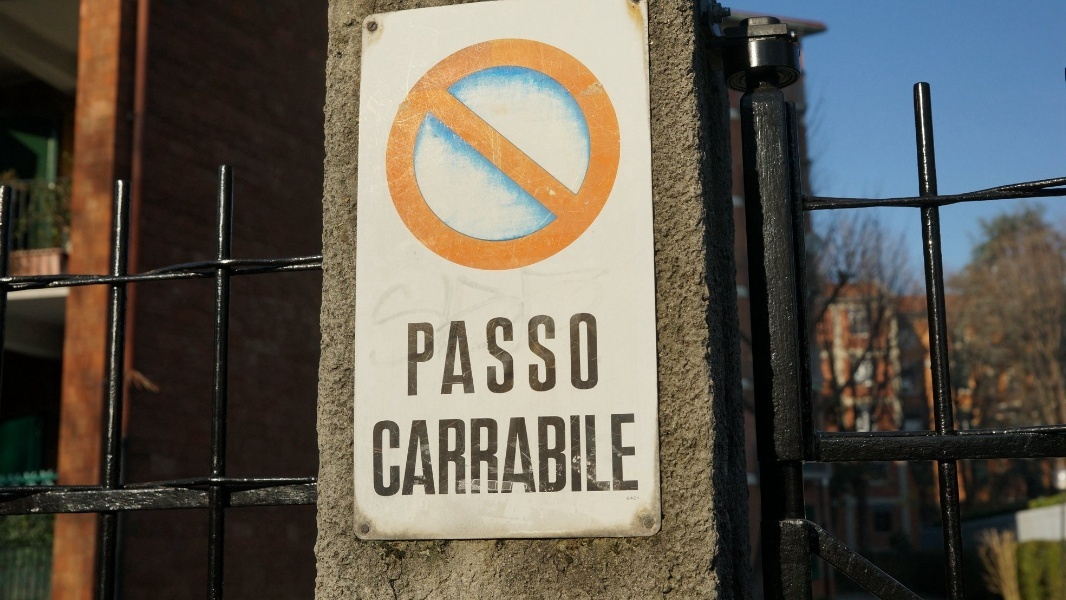text: (369, 412, 384, 503), (385, 412, 400, 503), (401, 412, 416, 503), (417, 412, 432, 503), (433, 412, 448, 503), (449, 412, 464, 503), (465, 412, 480, 503), (481, 412, 496, 503), (497, 412, 512, 503), (513, 412, 528, 503), (529, 412, 544, 503), (545, 412, 560, 503), (561, 412, 576, 503), (577, 412, 592, 503), (593, 412, 608, 503), (609, 412, 624, 503), (625, 412, 640, 503), (417, 312, 432, 401), (433, 312, 448, 401), (449, 312, 464, 401), (465, 312, 480, 401), (481, 312, 496, 401), (497, 312, 512, 401), (513, 312, 528, 401), (529, 312, 544, 401), (545, 312, 560, 401), (561, 312, 576, 401), (577, 312, 592, 401), (405, 312, 416, 401), (593, 312, 602, 401), (641, 412, 642, 503)
